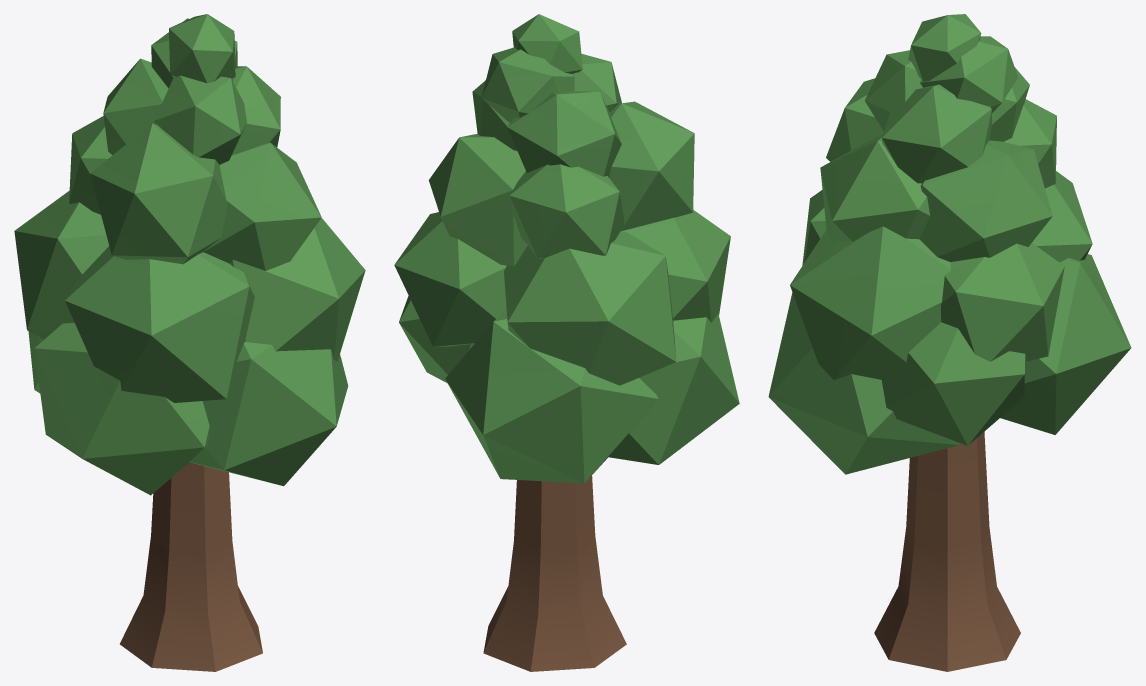
Rendered from Chêne_01.fbx.
3 renders of one model, left to right at view 1: azimuth 30°, elevation 25°; view 2: azimuth 150°, elevation 25°; view 3: azimuth 270°, elevation 25°, orthographic.
Visible parts, largest first — view 1: Chêne_01; view 2: Chêne_01; view 3: Chêne_01.
Part boxes in pixels (x1,y1,x2,y2): Chêne_01: [14, 14, 365, 671]; Chêne_01: [394, 14, 739, 671]; Chêne_01: [768, 14, 1131, 671].
Size of the model in its own units: 253 by 507 by 264.
Materials: 1 (1 with a texture image).
